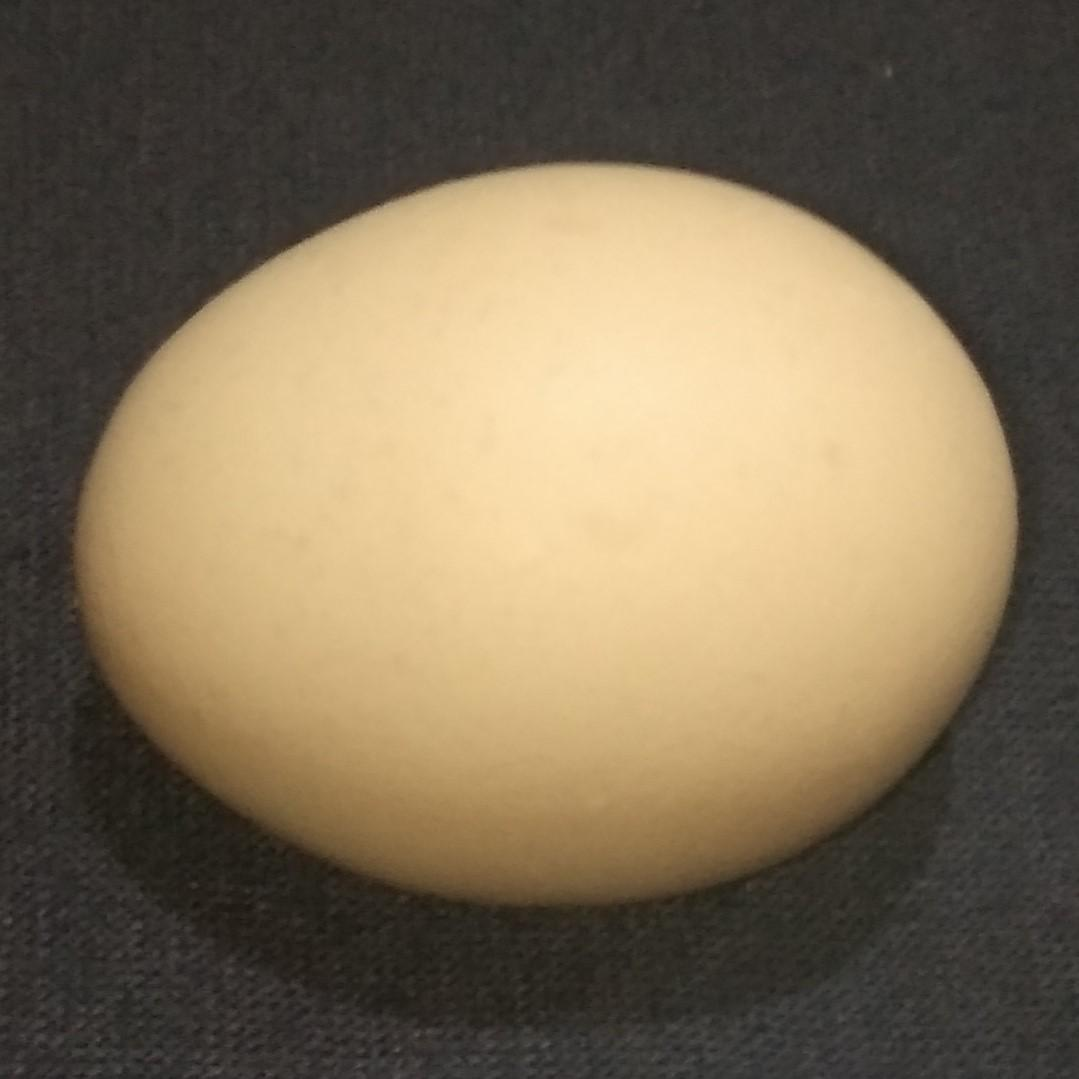egg: (68, 158, 1009, 908)
